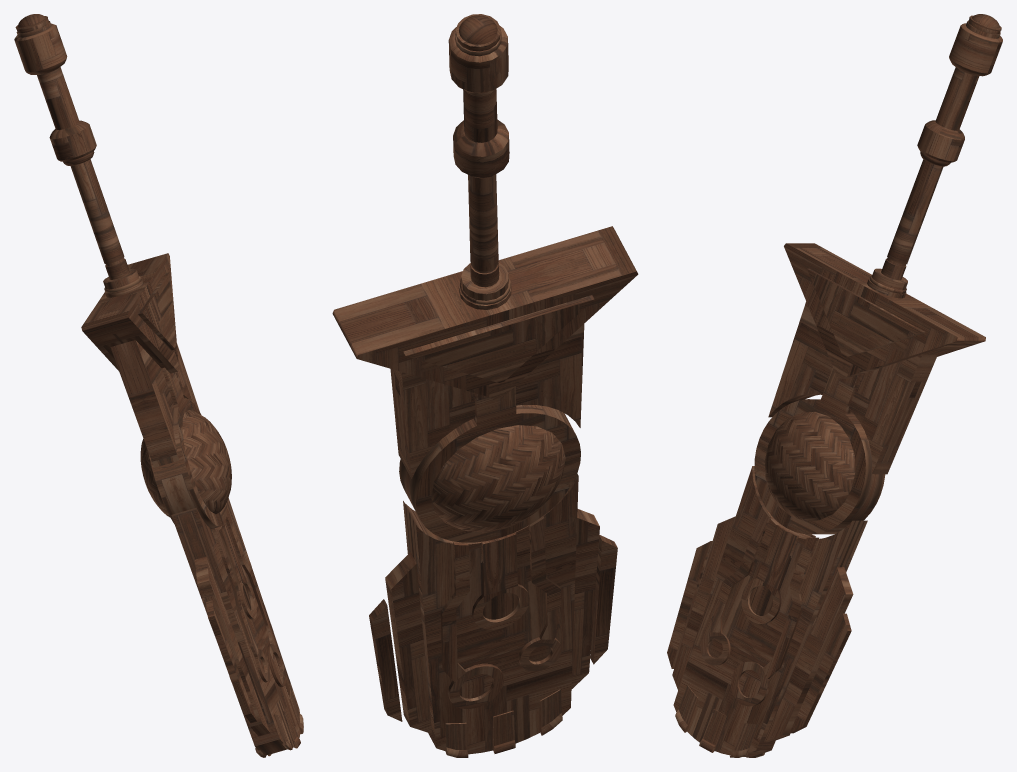
The model's file is transistor.fbx.
3 renders of one model, left to right at view 1: azimuth 30°, elevation 25°; view 2: azimuth 150°, elevation 25°; view 3: azimuth 270°, elevation 25°, orthographic. The views are drawn at different scales.
Visible parts, largest first — view 1: Gold_Big_low.001; view 2: Gold_Big_low.001; view 3: Gold_Big_low.001.
Part boxes in pixels (bbox=[...]): Gold_Big_low.001: bbox=[14, 14, 303, 757]; Gold_Big_low.001: bbox=[332, 14, 638, 757]; Gold_Big_low.001: bbox=[667, 14, 1002, 757].
Size of the model in its own units: 155 by 509 by 227.
